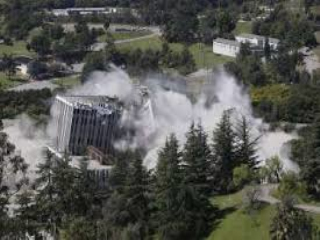smoke: (153, 77, 274, 166), (100, 72, 155, 164)
